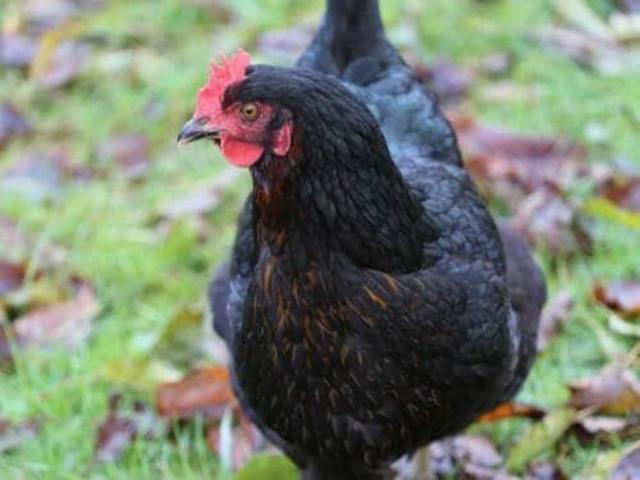Chicken: (174, 2, 546, 480)
